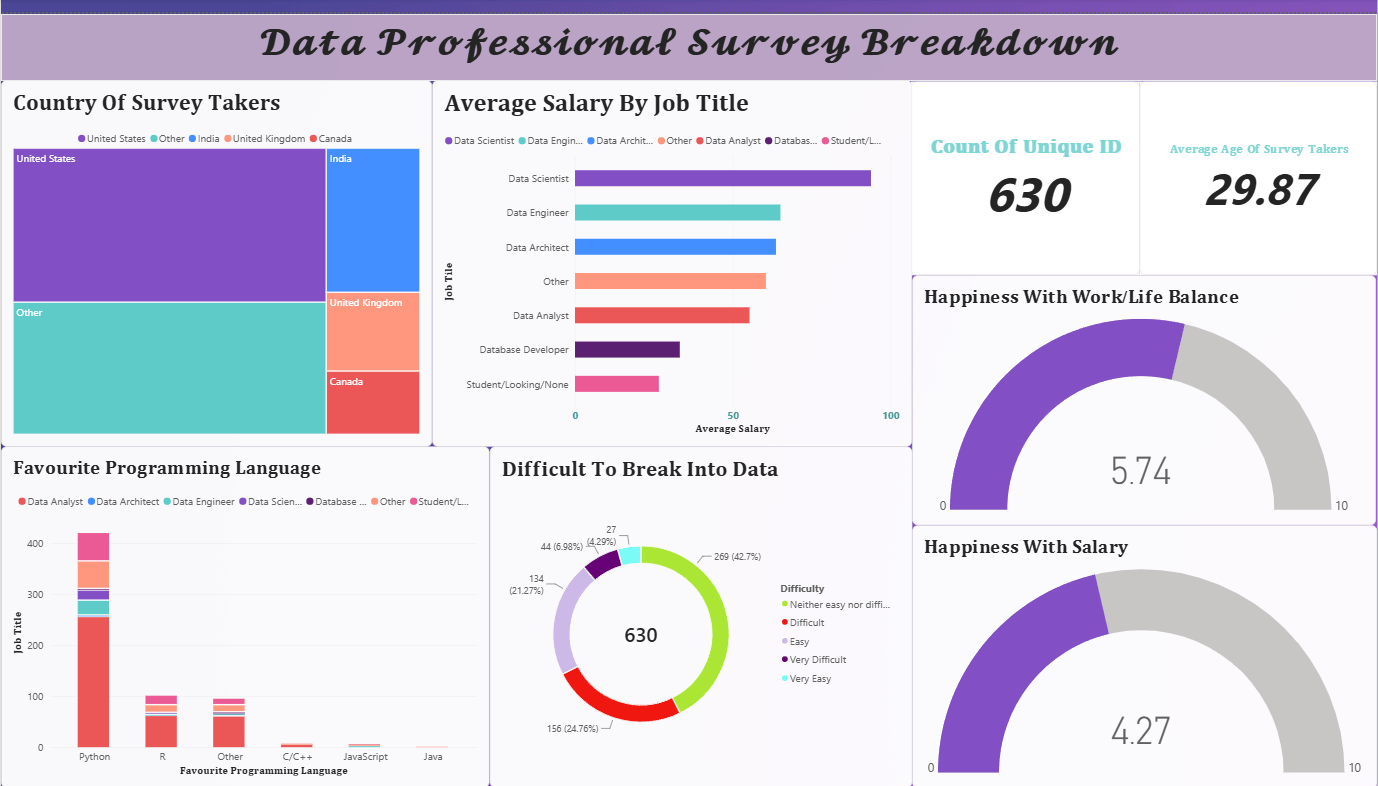

The page's visual inventory and layout, read from the dashboard file:
{"tool":"powerbi","page":{"name":"Page 1","canvas":[1920,1080],"ordinal":0},"visuals":[{"type":"textbox","box":[0,0,1921.2,93.8],"z":0},{"type":"cardVisual","fields":{"Data":["Count(Data Professional Survey.Unique ID)"]},"box":[1269.8,94.2,319.2,270.3],"z":1000},{"type":"cardVisual","fields":{"Data":["Avg(Data Professional Survey.Q10 - Current Age)"]},"box":[1589,94.2,331.4,270.3],"z":1001},{"type":"barChart","title":" 𝐀𝐯𝐞𝐫𝐚𝐠𝐞 𝐒𝐚𝐥𝐚𝐫𝐲 𝐁𝐲 𝐉𝐨𝐛 𝐓𝐢𝐭𝐥𝐞 ","fields":{"Category":["Data Professional Survey.Q1 - Which Title Best Fits your Current Role?.1"],"Series":["Data Professional Survey.Q1 - Which Title Best Fits your Current Role?.1"],"Y":["Avg(Data Professional Survey.Average Salary)"]},"box":[601.7,92.4,669.8,511],"z":1002},{"type":"columnChart","title":" 𝐅𝐚𝐯𝐨𝐮𝐫𝐢𝐭𝐞 𝐏𝐫𝐨𝐠𝐫𝐚𝐦𝐦𝐢𝐧𝐠 𝐋𝐚𝐧𝐠𝐮𝐚𝐠𝐞 ","fields":{"Category":["Data Professional Survey.Q5 - Favorite Programming Language.1"],"Series":["Data Professional Survey.Q1 - Which Title Best Fits your Current Role?.1"],"Y":["CountNonNull(Data Professional Survey.Unique ID)"]},"box":[0,603.5,682,476.2],"z":1003},{"type":"treemap","title":" 𝐂𝐨𝐮𝐧𝐭𝐫𝐲 𝐎𝐟 𝐒𝐮𝐫𝐯𝐞𝐲 𝐓𝐚𝐤𝐞𝐫𝐬 ","fields":{"Group":["Data Professional Survey.Q11 - Which Country do you live in?.1"],"Values":["CountNonNull(Data Professional Survey.Q11 - Which Country do you live in?.1)"]},"box":[0,92.4,601.7,511],"z":1004},{"type":"gauge","title":" 𝐇𝐚𝐩𝐩𝐢𝐧𝐞𝐬𝐬 𝐖𝐢𝐭𝐡 𝐖𝐨𝐫𝐤/𝐋𝐢𝐟𝐞 𝐁𝐚𝐥𝐚𝐧𝐜𝐞 ","fields":{"MaxValue":["Max(Data Professional Survey.Q6 - How Happy are you in your Current Position with the following? (Work/Life Balance))"],"MinValue":["Min(Data Professional Survey.Q6 - How Happy are you in your Current Position with the following? (Work/Life Balance))"],"Y":["Avg(Data Professional Survey.Q6 - How Happy are you in your Current Position with the following? (Work/Life Bal"]},"box":[1271.5,364.5,647.1,348.8],"z":1005},{"type":"gauge","title":" 𝐇𝐚𝐩𝐩𝐢𝐧𝐞𝐬𝐬 𝐖𝐢𝐭𝐡 𝐒𝐚𝐥𝐚𝐫𝐲 ","fields":{"MaxValue":["Max(Data Professional Survey.Q6 - How Happy are you in your Current Position with the following? (Salary))"],"MinValue":["Min(Data Professional Survey.Q6 - How Happy are you in your Current Position with the following? (Salary))"],"Y":["Avg(Data Professional Survey.Q6 - How Happy are you in your Current Position with the following? (Salary))"]},"box":[1271.5,713.6,648.5,367.3],"z":1006},{"type":"donutChart","title":" 𝐃𝐢𝐟𝐟𝐢𝐜𝐮𝐥𝐭 𝐓𝐨 𝐁𝐫𝐞𝐚𝐤 𝐈𝐧𝐭𝐨 𝐃𝐚𝐭𝐚 ","fields":{"Category":["Data Professional Survey.Q7 - How difficult was it for you to break into Data?"],"Y":["CountNonNull(Data Professional Survey.Q7 - How difficult was it for you to break into Data?)"]},"box":[682,603.5,589.5,476.2],"z":1007}]}

Visuals, with their boxes in screenshot pixels (x1, y1, x2, y2), scaled from the page's 1920x1080 canvas onto the 1378x786 screenshot:
textbox: {"x1": 0, "y1": 0, "x2": 1377, "y2": 68}
cardVisual - Count(Data Professional Survey.Unique ID): {"x1": 911, "y1": 69, "x2": 1140, "y2": 265}
cardVisual - Avg(Data Professional Survey.Q10 - Current Age): {"x1": 1140, "y1": 69, "x2": 1377, "y2": 265}
" 𝐀𝐯𝐞𝐫𝐚𝐠𝐞 𝐒𝐚𝐥𝐚𝐫𝐲 𝐁𝐲 𝐉𝐨𝐛 𝐓𝐢𝐭𝐥𝐞 " barChart: {"x1": 432, "y1": 67, "x2": 913, "y2": 439}
" 𝐅𝐚𝐯𝐨𝐮𝐫𝐢𝐭𝐞 𝐏𝐫𝐨𝐠𝐫𝐚𝐦𝐦𝐢𝐧𝐠 𝐋𝐚𝐧𝐠𝐮𝐚𝐠𝐞 " columnChart: {"x1": 0, "y1": 439, "x2": 489, "y2": 785}
" 𝐂𝐨𝐮𝐧𝐭𝐫𝐲 𝐎𝐟 𝐒𝐮𝐫𝐯𝐞𝐲 𝐓𝐚𝐤𝐞𝐫𝐬 " treemap: {"x1": 0, "y1": 67, "x2": 432, "y2": 439}
" 𝐇𝐚𝐩𝐩𝐢𝐧𝐞𝐬𝐬 𝐖𝐢𝐭𝐡 𝐖𝐨𝐫𝐤/𝐋𝐢𝐟𝐞 𝐁𝐚𝐥𝐚𝐧𝐜𝐞 " gauge: {"x1": 913, "y1": 265, "x2": 1377, "y2": 519}
" 𝐇𝐚𝐩𝐩𝐢𝐧𝐞𝐬𝐬 𝐖𝐢𝐭𝐡 𝐒𝐚𝐥𝐚𝐫𝐲 " gauge: {"x1": 913, "y1": 519, "x2": 1377, "y2": 785}
" 𝐃𝐢𝐟𝐟𝐢𝐜𝐮𝐥𝐭 𝐓𝐨 𝐁𝐫𝐞𝐚𝐤 𝐈𝐧𝐭𝐨 𝐃𝐚𝐭𝐚 " donutChart: {"x1": 489, "y1": 439, "x2": 913, "y2": 785}
